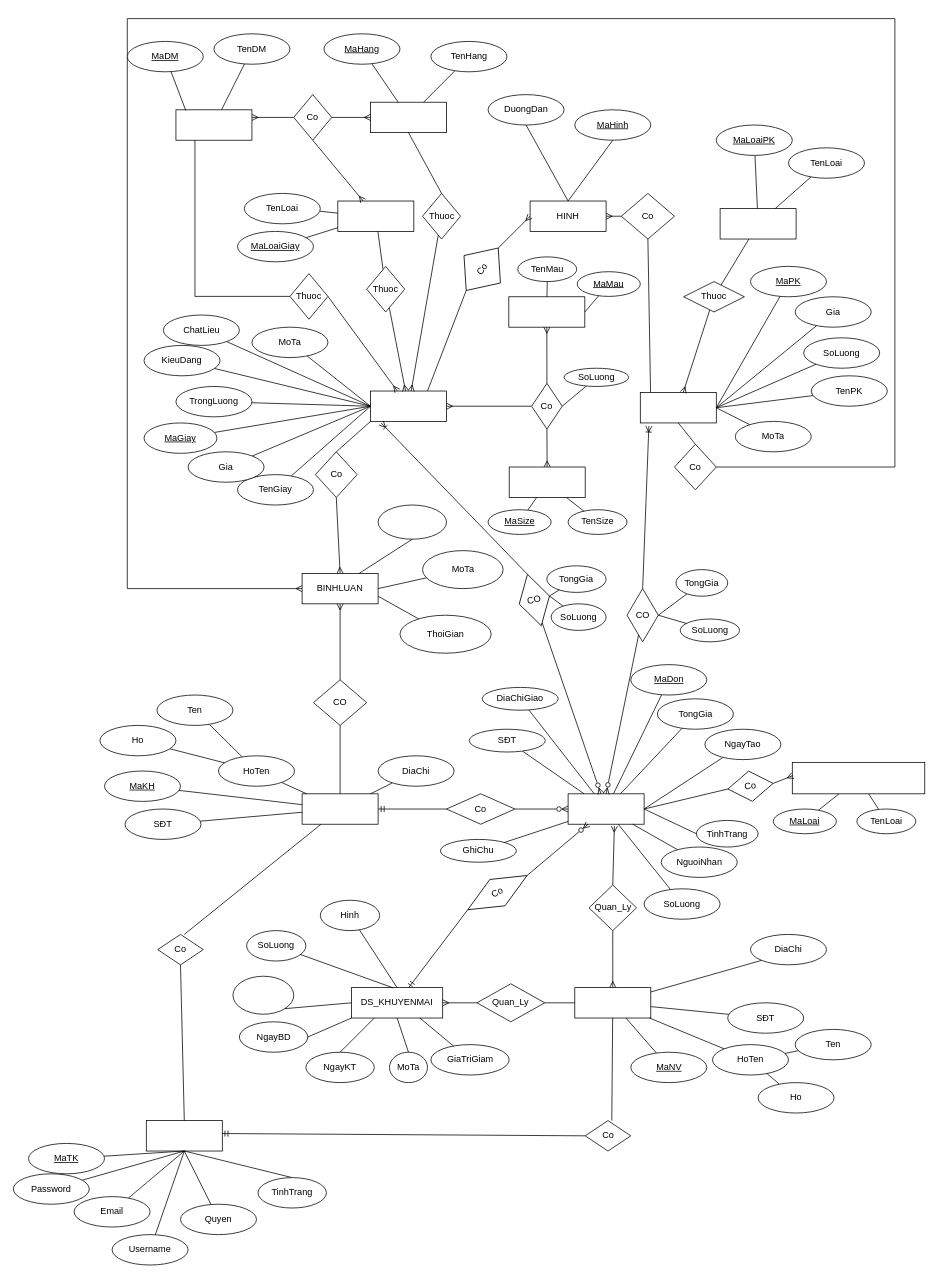
Some shapes in this 939 by 1278 pixel diagram are drawn without their labels. Here are the shapes that lost their labels. From the top down, the centre of each, then its label:
At point (213, 124): "DANHMUC".
At point (408, 117): "HANG".
At point (375, 215): "LOAIGIAY".
At point (757, 223): "LOAIPHUKIEN".
At point (546, 311): "MAUSAC".
At point (408, 405): "GIAY".
At point (678, 407): "PHUKIEN".
At point (546, 481): "SIZE".
At point (411, 521): "MaBL".
At point (858, 778): "PHUONGTHUCTHANHTOAN".
At point (339, 808): "KHACHHANG".
At point (605, 808): "DONHANG".
At point (263, 994): "MaKM".
At point (612, 1002): "NHANVIEN".
At point (184, 1135): "TAIKHOAN".
